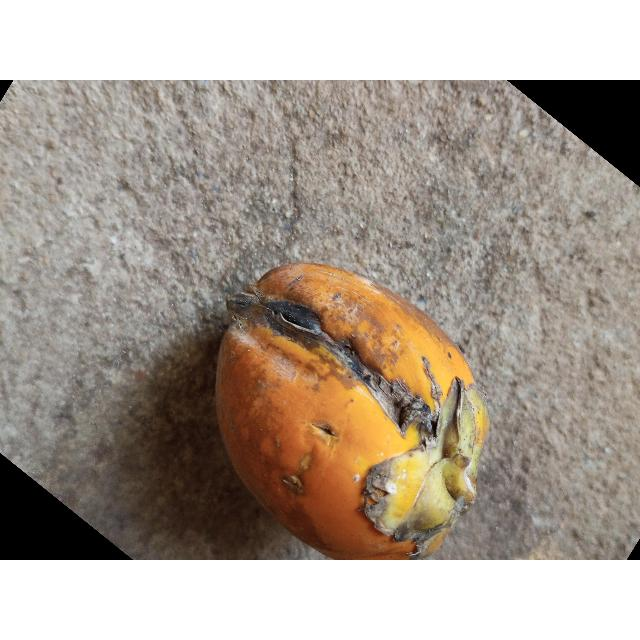damaged: (214, 263, 491, 560)
